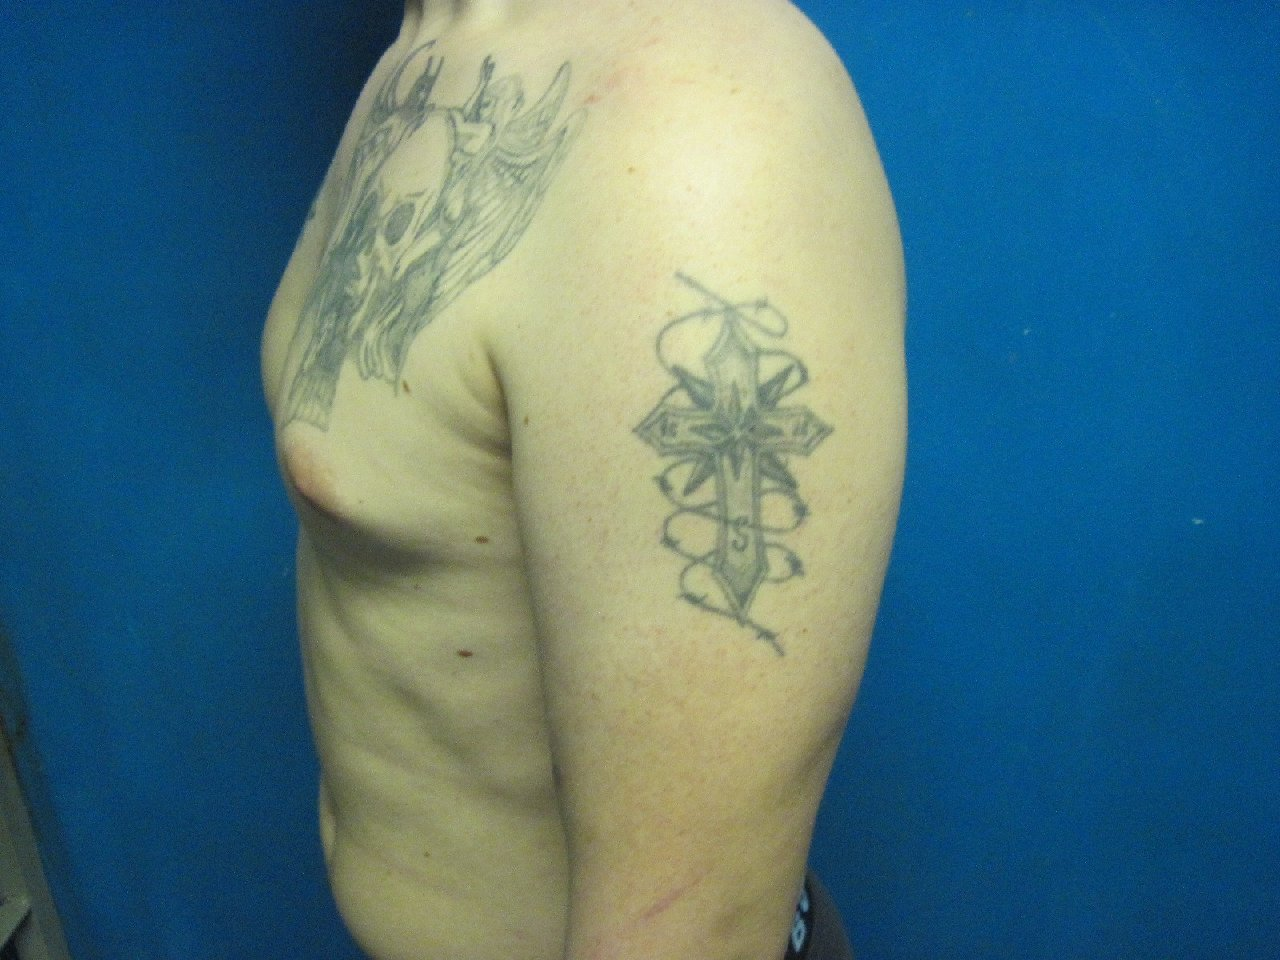tatu9_krest: (626, 296, 851, 643)
